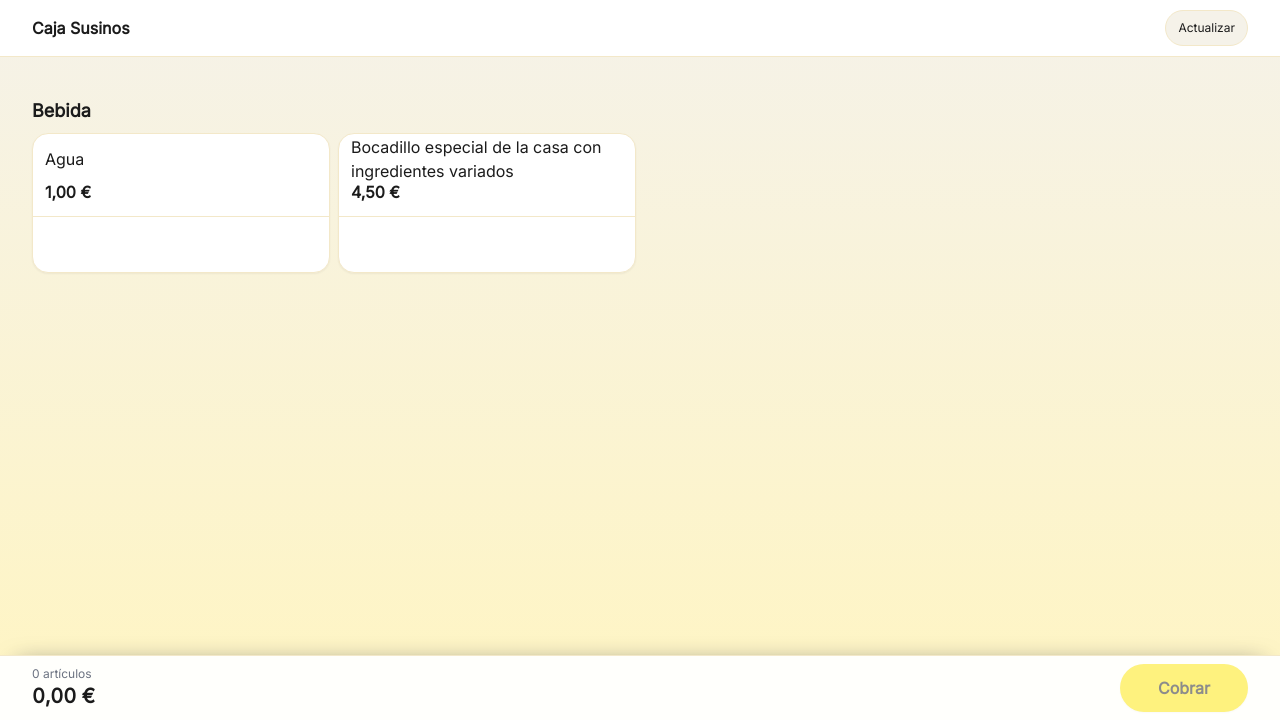
Caja product catalog › reserves the same card height and quantity-control region before and after selection
Click the button with aria-label "Añadir Agua a la comanda": {"x": 65, "y": 159} x1=33 y1=134 x2=329 y2=216
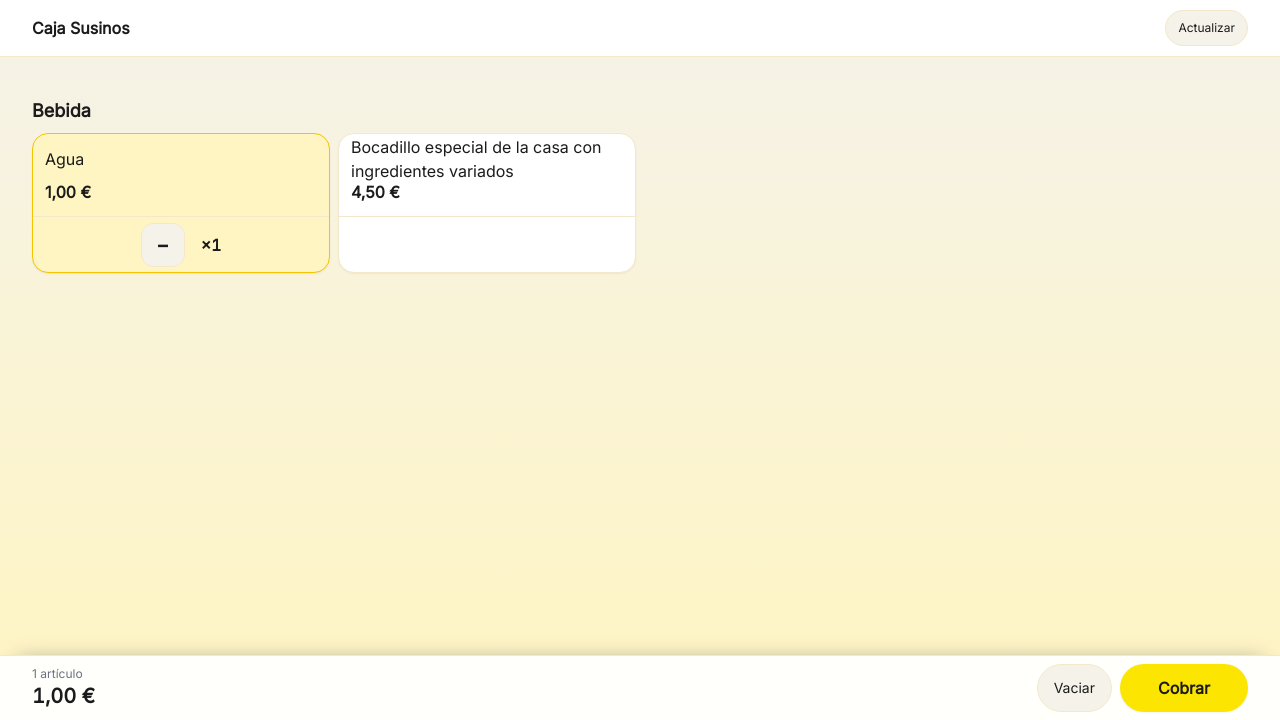
Check: the text named "Número de artículos" reads "1 artículo", box x1=32 y1=666 x2=83 y2=681
Check: the text named "Total de la comanda" reads "1,00 €", box x1=32 y1=684 x2=95 y2=708
